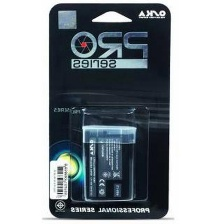battery: (77, 123, 140, 204)
